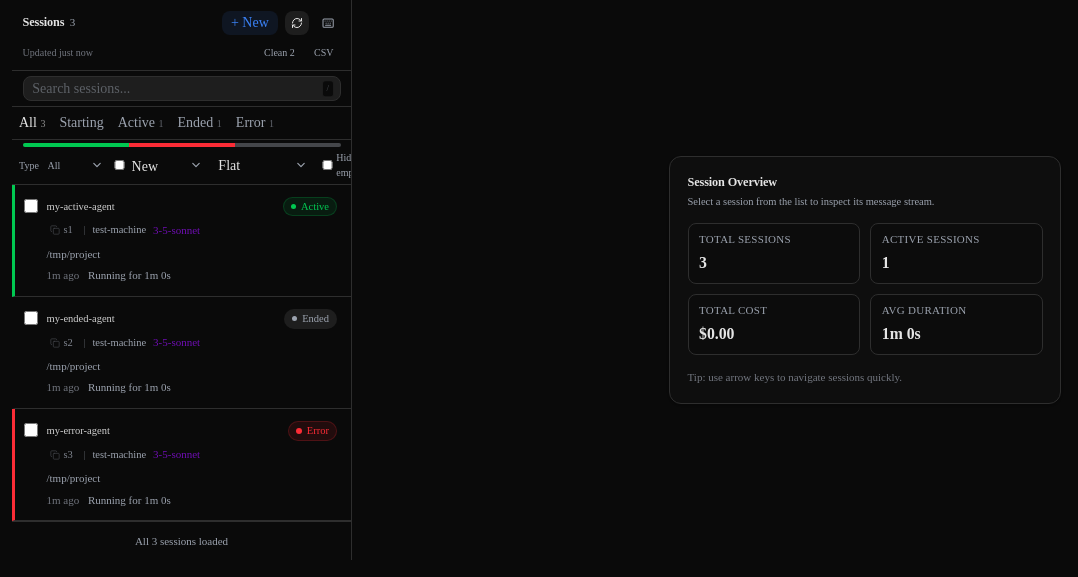
Scenario: SessionsPage › clicking Active tab filters sessions
expect the text "my-active-agent" is shown: met, box [46,200,115,214]
Click the button "Active1".
click(141, 123)  # box [111,107,170,138]
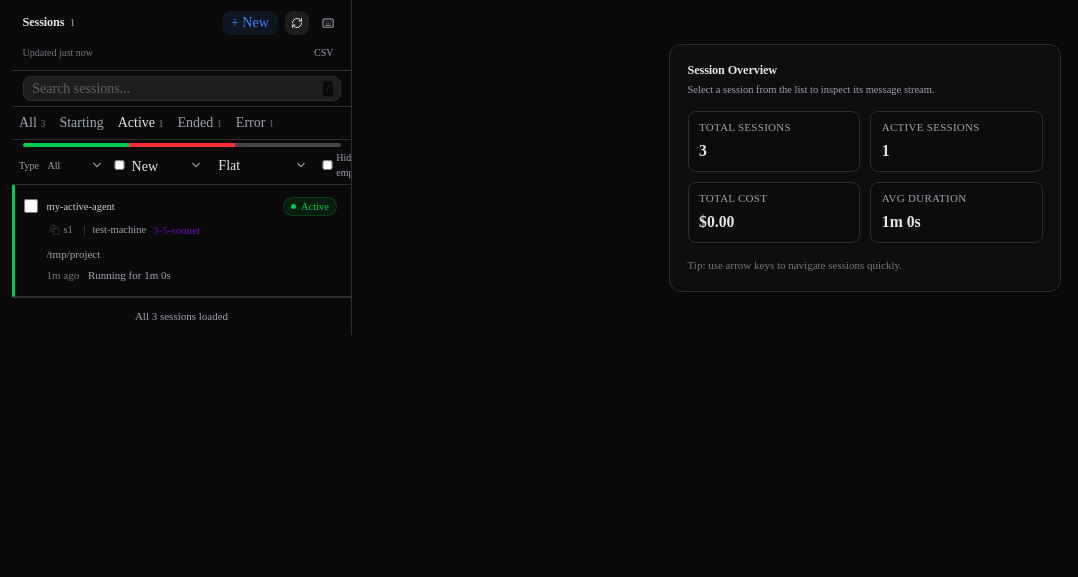
expect the text "my-active-agent" is shown: met, box [46,200,115,214]
expect the button "my-ended-agent" is gone: met
expect the button "my-error-agent" is gone: met
